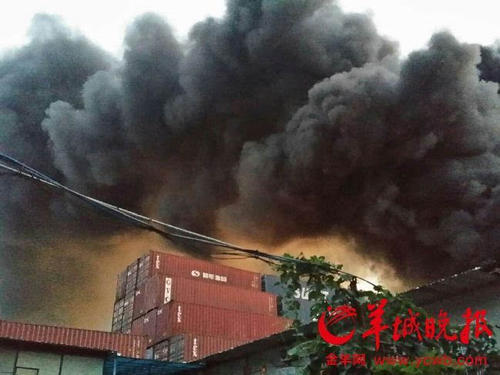smoke: (10, 25, 487, 245)
